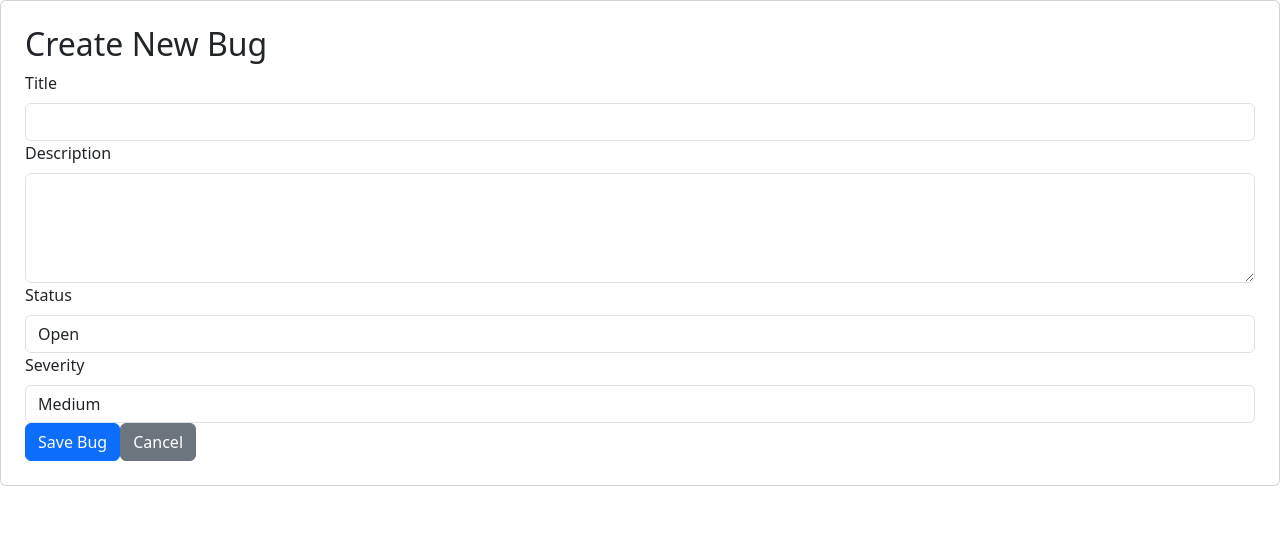
BugForm Component › validates form inputs correctly
Click submit without filling form
Click the button with test id "submit-button". click: point(73, 442)
box: [25,423,120,461]
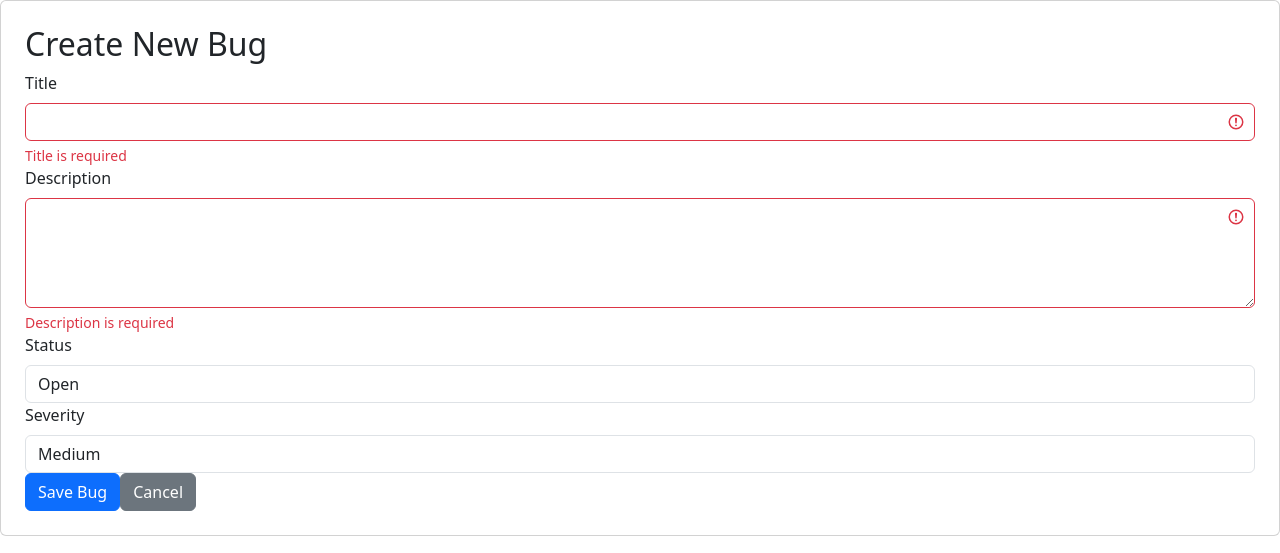
Expected: the text "Title is required" is shown, [25,146,127,165]
Expected: the text "Description is required" is shown, [25,313,174,332]
Enter short title
Type "AB" into the field with test id "title-input". click: point(640, 122)
box: [25,103,1255,141]
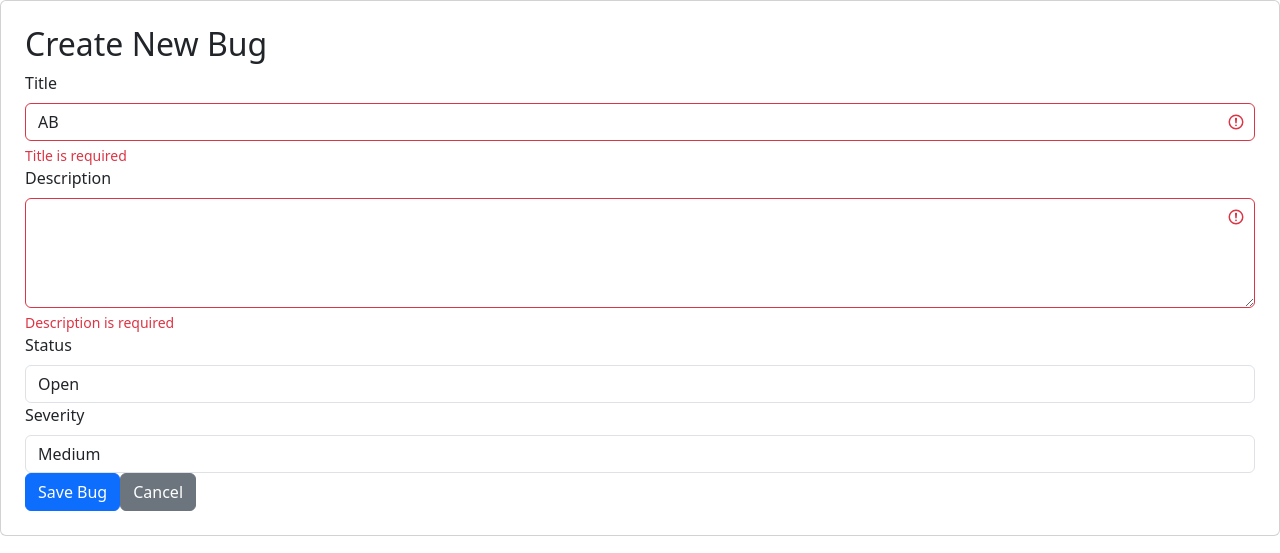
Click submit again
Click the button with test id "submit-button". click: point(73, 492)
box: [25,473,120,511]
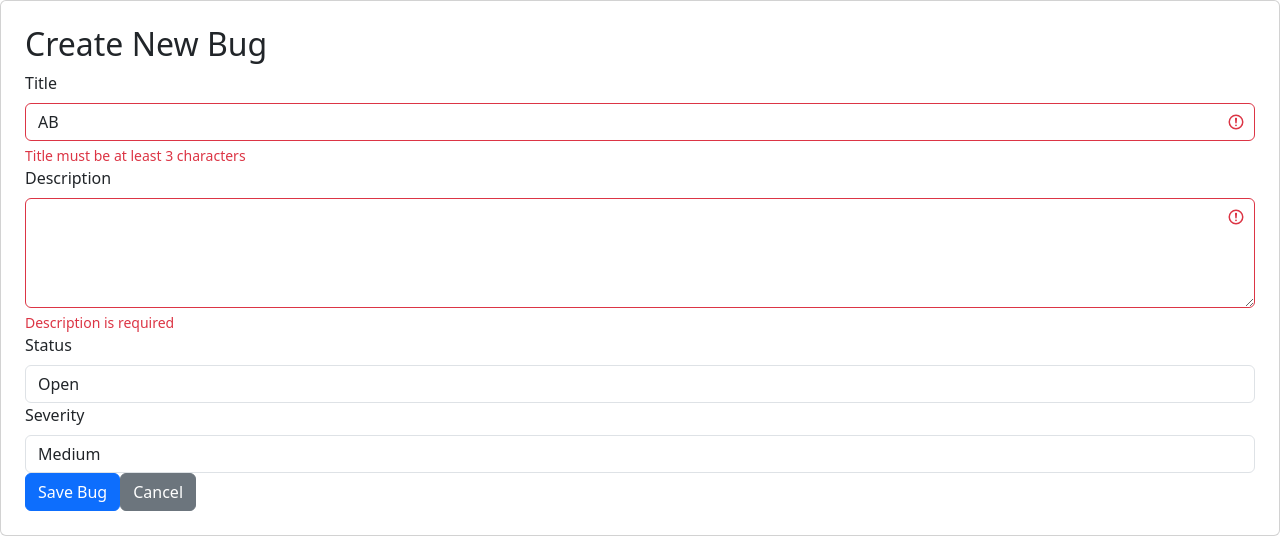
Expected: the text "Title must be at least 3 characters" is shown, [25,146,246,165]
